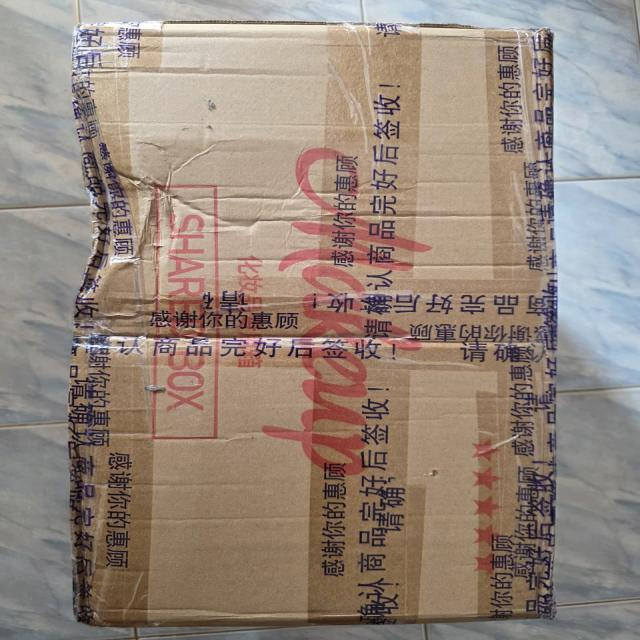carton_box: (52, 8, 580, 632)
package_damage: (63, 108, 147, 327)
